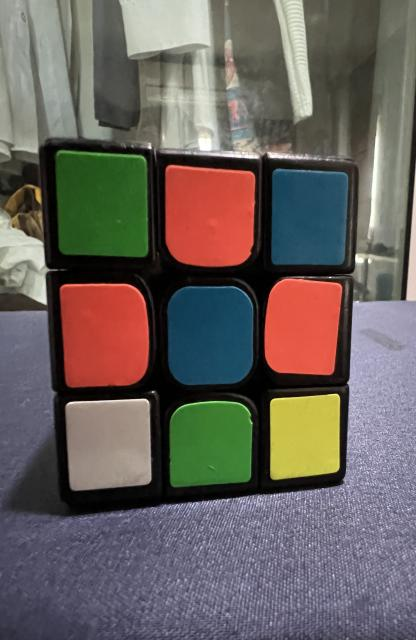Blue: (167, 286, 254, 385), (271, 169, 349, 265)
Green: (55, 150, 148, 258), (169, 401, 252, 488)
Orange: (165, 165, 256, 268), (60, 284, 150, 388), (264, 279, 342, 375)
White: (65, 399, 152, 491)
Yellow: (270, 394, 340, 480)
